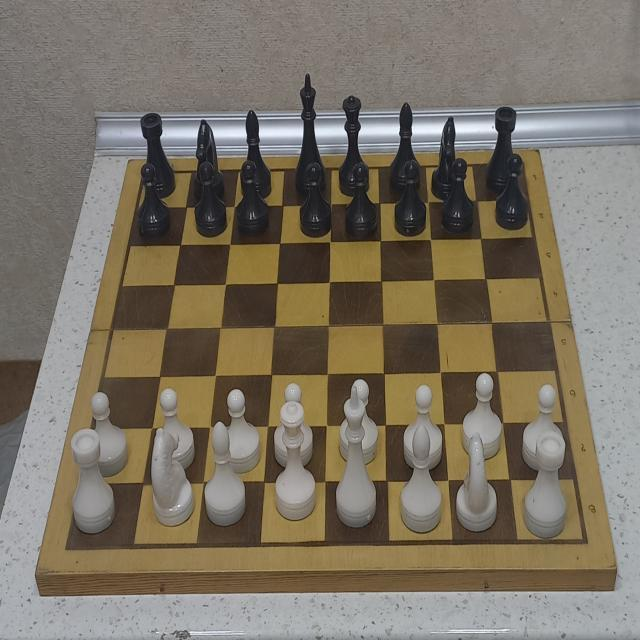chess-table-corners: (571, 527, 598, 556), (512, 154, 532, 173), (60, 536, 75, 560)
